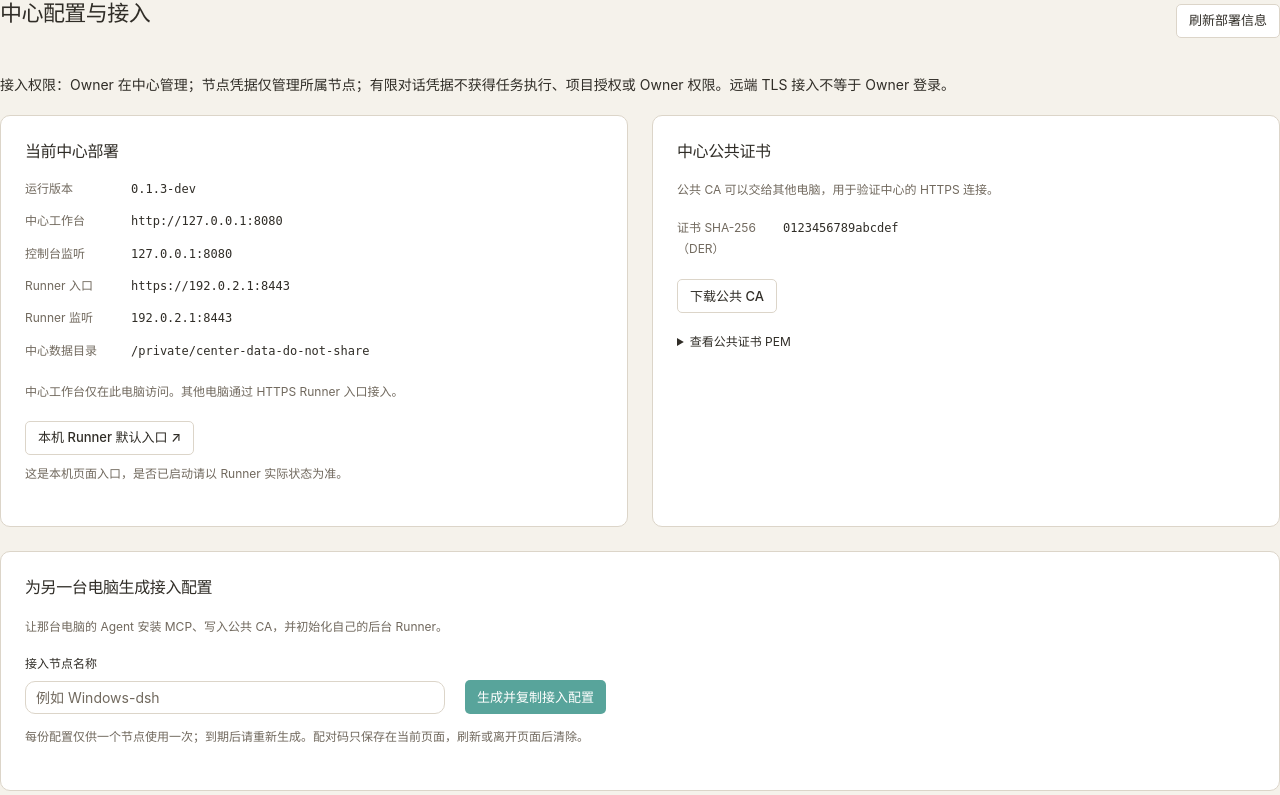
Test: center connection settings › retains the node name after a failed request and lets the user retry
This screenshot has width=1280, height=795.
Type "Windows-dsh" into the field labelled "接入节点名称" at (235, 698), box [25,681,445,714]
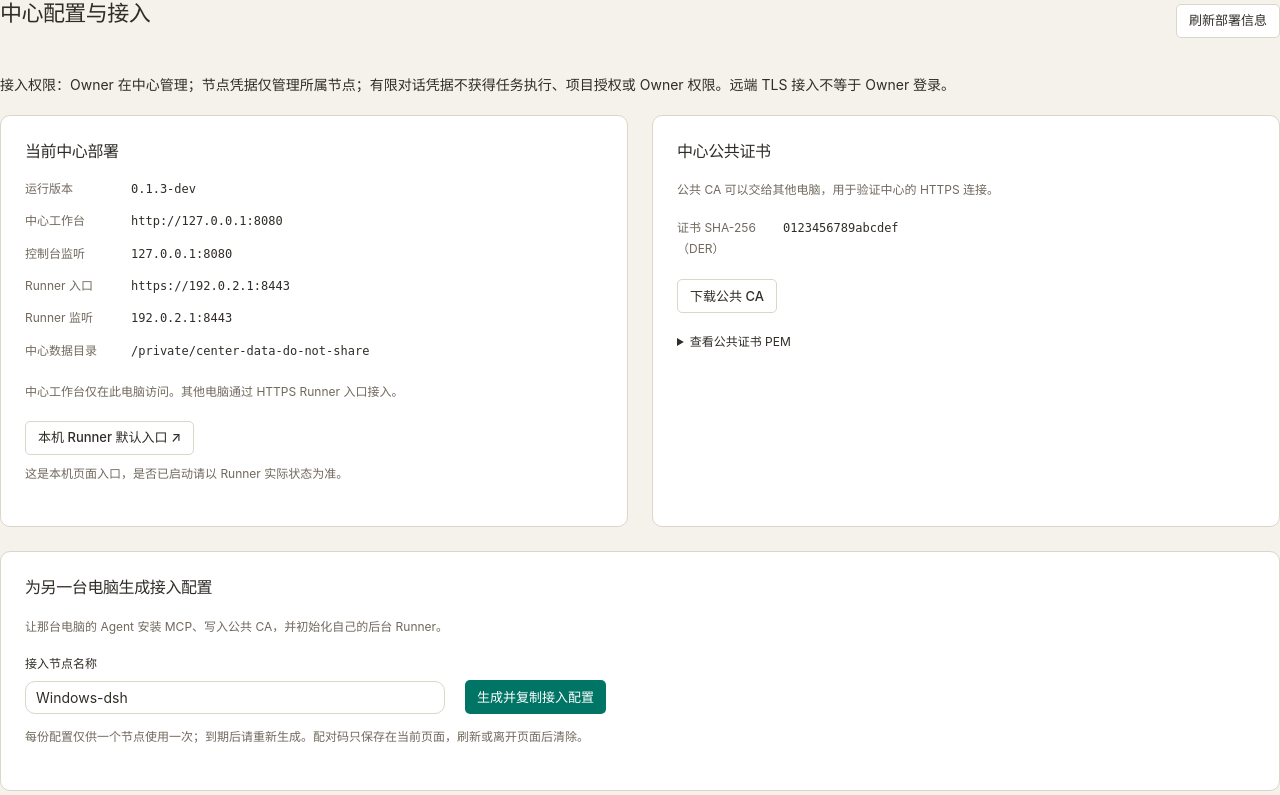
Click the button "生成并复制接入配置" at (536, 697), box [465,680,606,714]
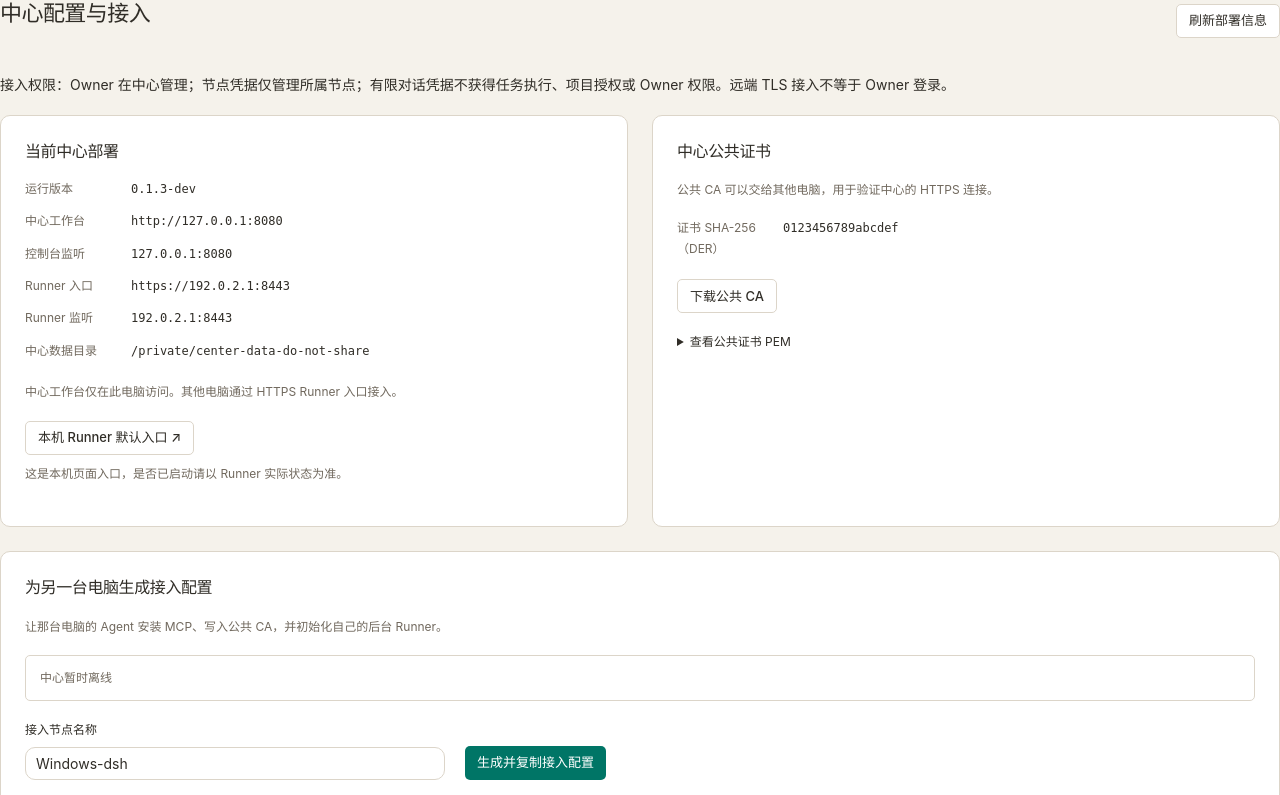
Now the text "中心暂时离线" is shown, box [25,655,1255,701]
Click the button "生成并复制接入配置" at (536, 763), box [465,746,606,780]
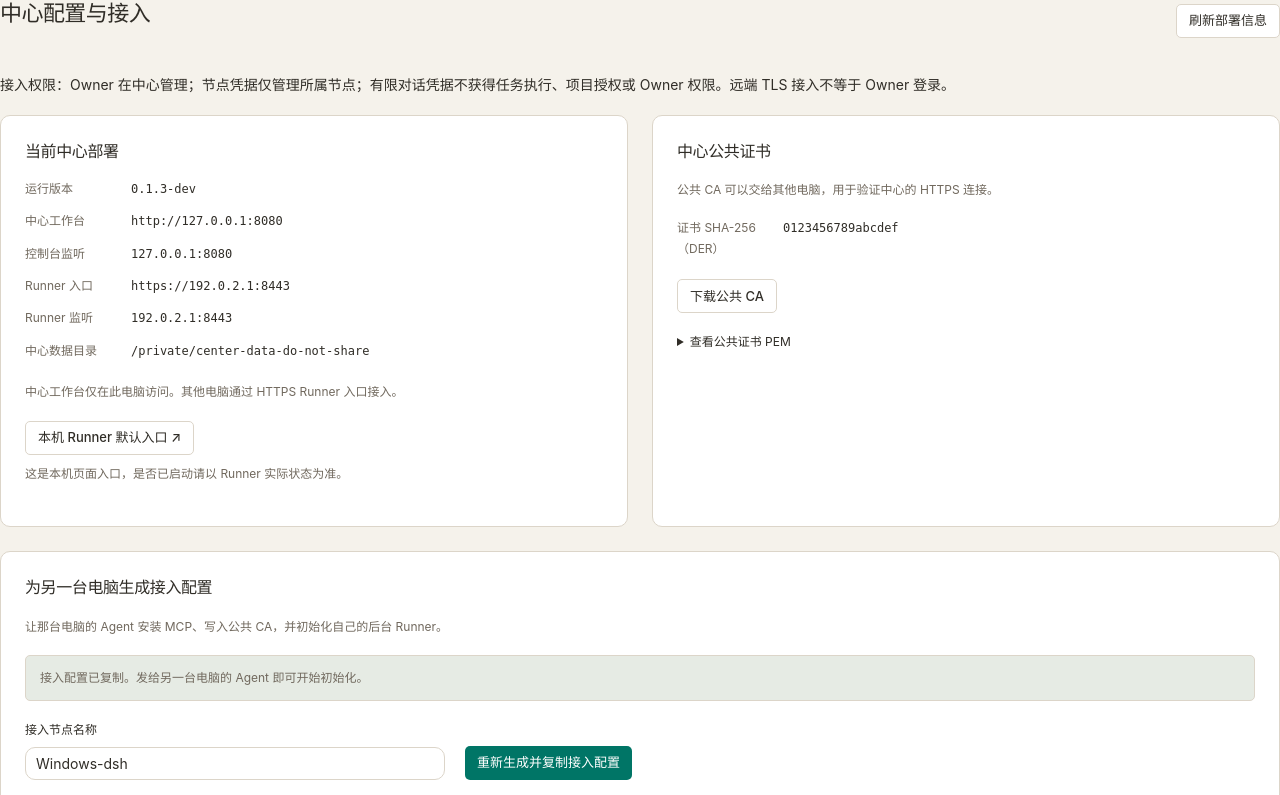
Now the message "接入配置已复制。发给另一台电脑的 Agent 即可开始初始化。" is shown, box [25,655,1255,701]
